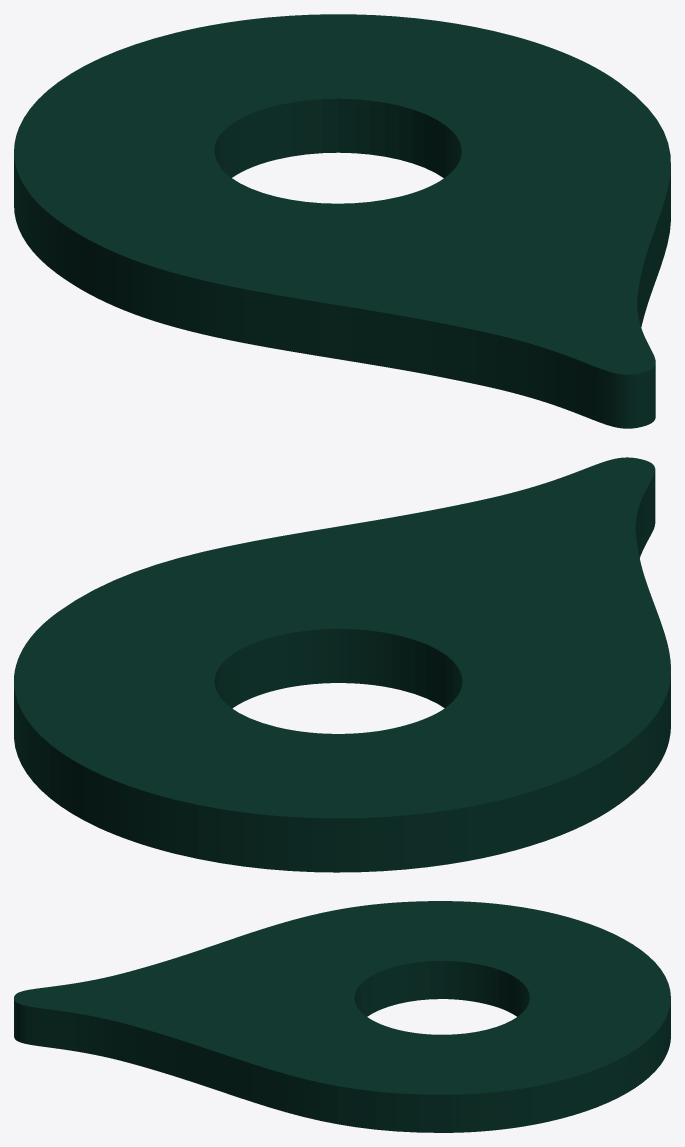
File: pin.glb
The picture shows the model from 3 angles, top to bottom: view 1: azimuth 30°, elevation 25°; view 2: azimuth 150°, elevation 25°; view 3: azimuth 270°, elevation 25°; orthographic projection. The views are drawn at different scales.
Visible parts, largest first — view 1: Curve; view 2: Curve; view 3: Curve.
Boxes of the visible parts, x1,y1,x2,y2 form: Curve: (14,14,670,428); Curve: (14,457,670,872); Curve: (14,901,670,1132).
Bounding box in the file's own units: 1.6 × 0.147 × 2.29.
